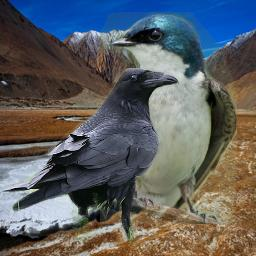Crow: (0, 68, 179, 242)
Swallow: (100, 12, 237, 224)
